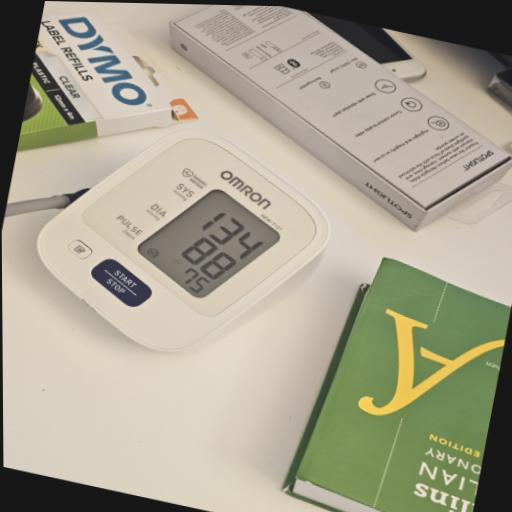lcd display: (130, 174, 288, 315)
